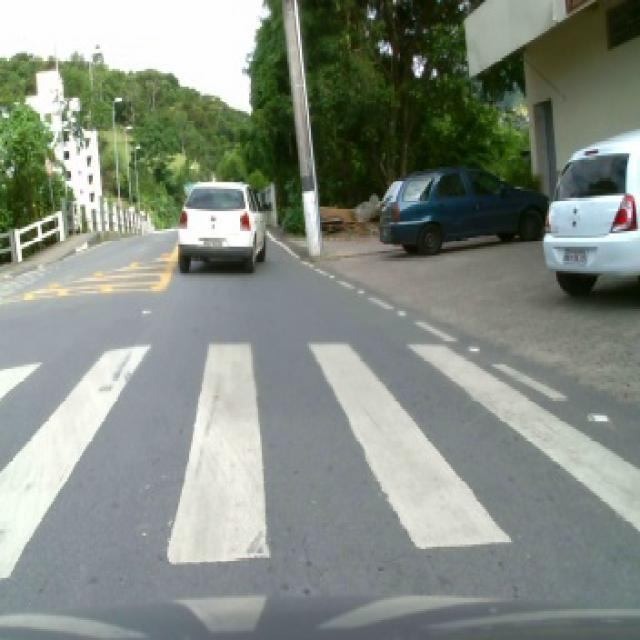Poth-hole: (588, 411, 608, 420), (466, 344, 478, 352), (394, 306, 406, 314), (354, 286, 364, 294), (326, 271, 334, 278)
